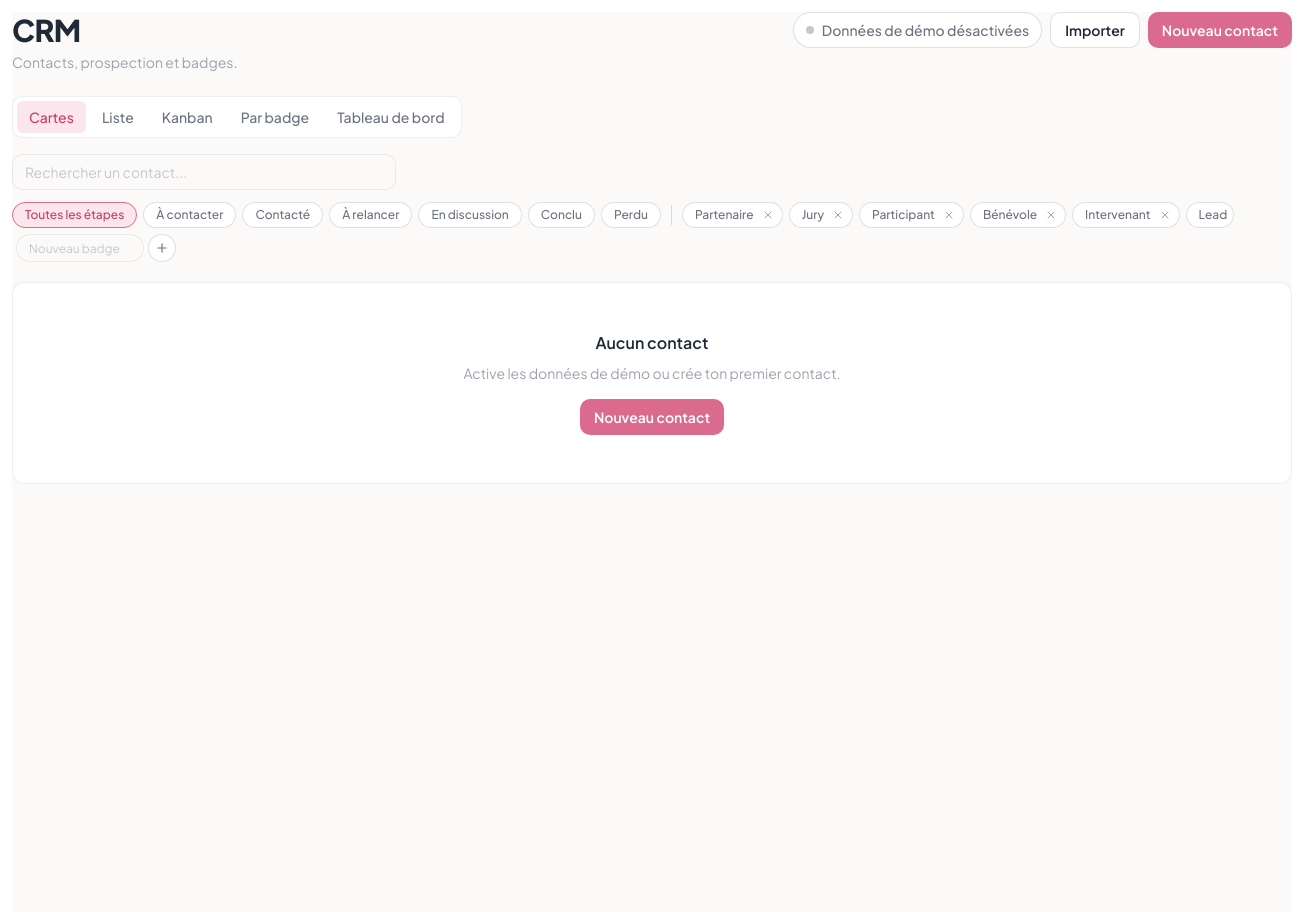
Test: CrmPage › ouvre la fiche de création via "Nouveau contact"
This screenshot has width=1304, height=912.
Click the button "Nouveau contact" in the row of "CRM" at (1220, 30), box [1148,12,1292,48]
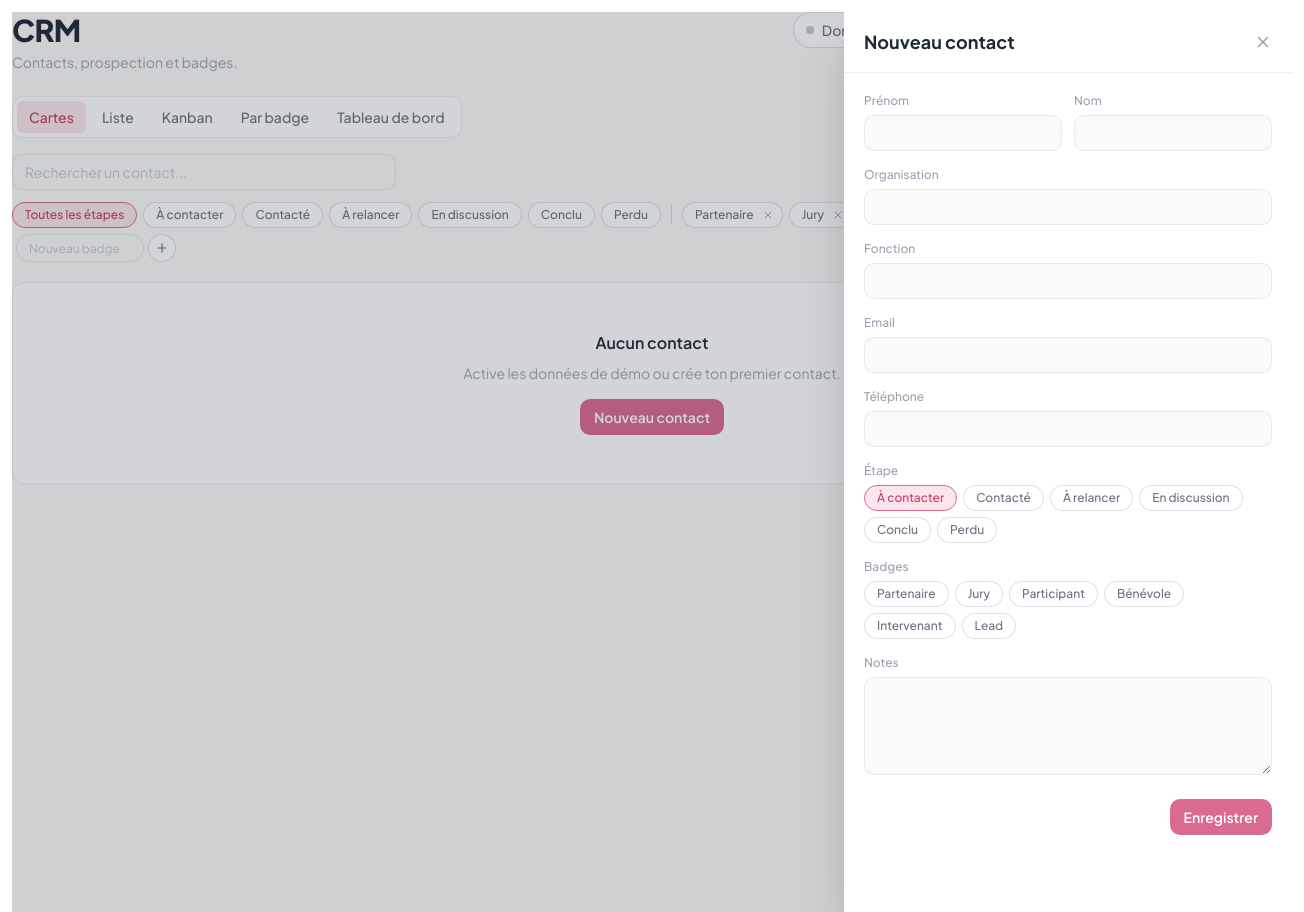
Expected: the heading "Nouveau contact" is shown, [864,28,1015,56]
